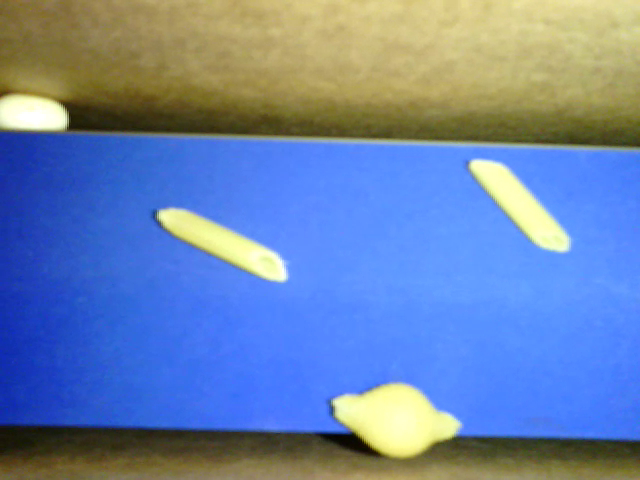penne: (155, 206, 288, 282), (467, 158, 571, 253)
shell: (327, 382, 463, 459)
